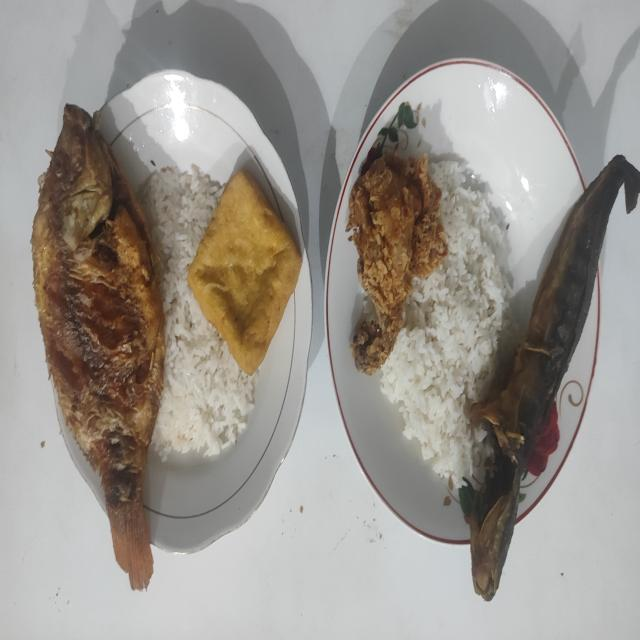ikan_mujair: (31, 104, 165, 590)
nasi_putih: (378, 160, 522, 490), (138, 165, 256, 457)
tahu_goreng: (188, 171, 302, 375)
